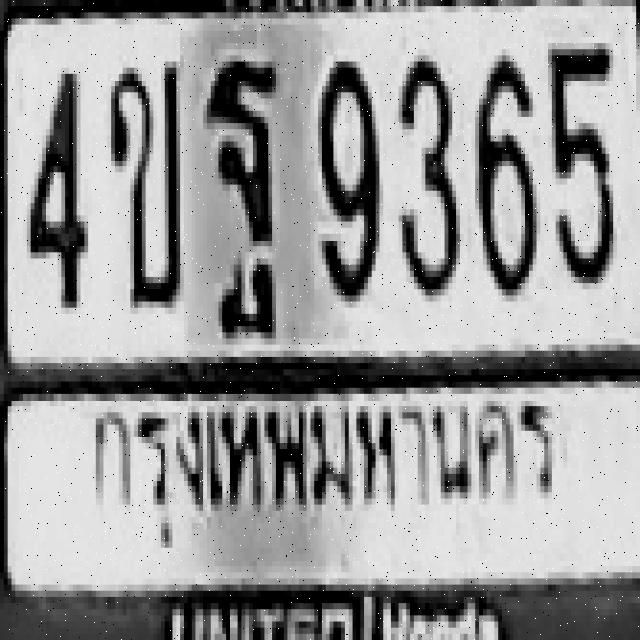11KhorKhai: (108, 56, 176, 302)
25ThorThan: (203, 52, 276, 292)
3: (394, 56, 456, 290)
4: (22, 64, 84, 298)
5: (544, 40, 610, 280)
6: (473, 49, 535, 289)
9: (316, 52, 378, 292)
Bangkok: (82, 390, 558, 552)
